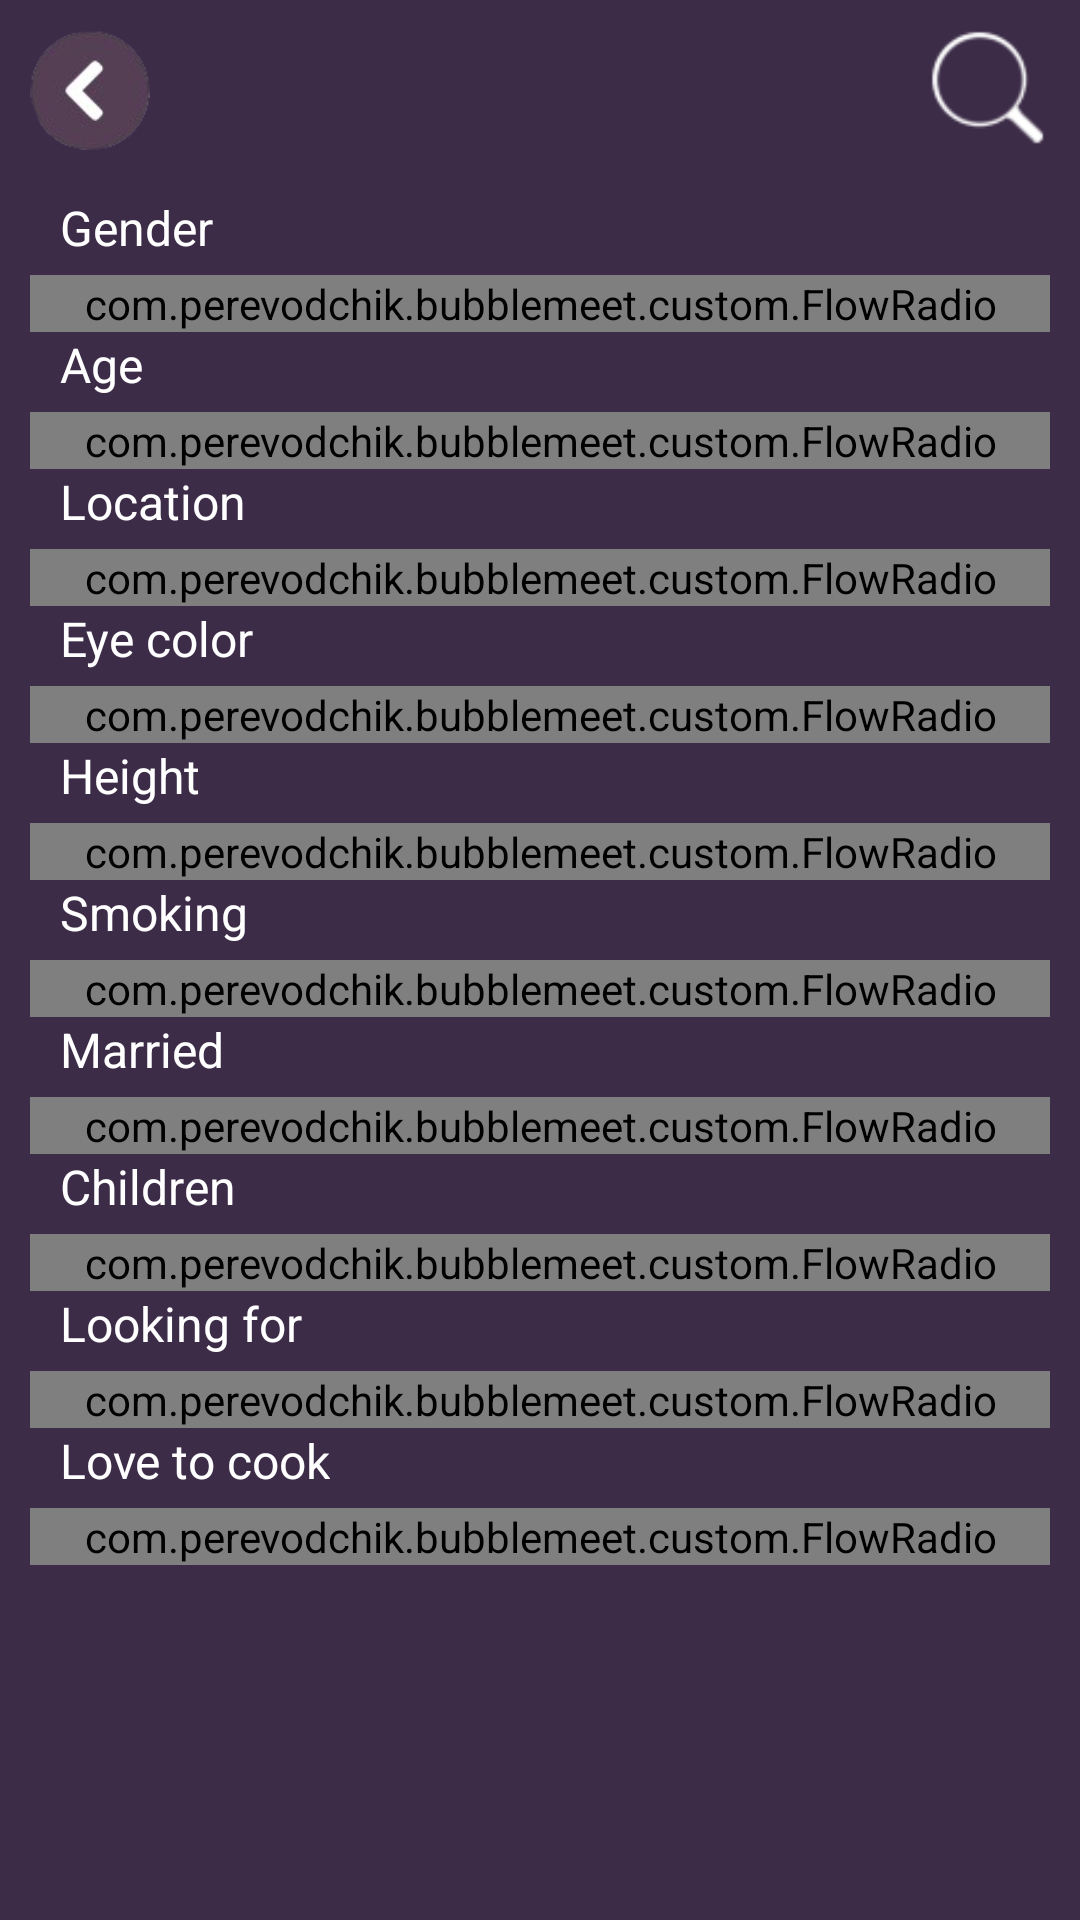

Where to tap for icons on this 1080 x 1920 app screen, as [x,y]:
Back: [91,91]
Search: [987,87]
